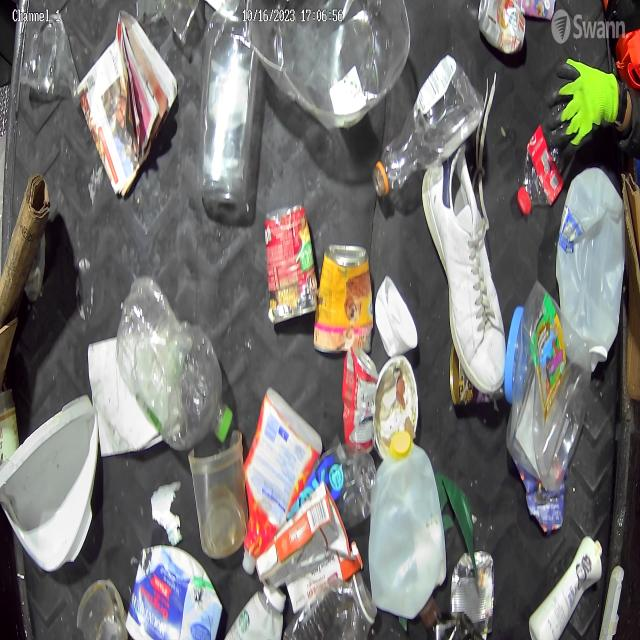can: (316, 242, 374, 357), (261, 204, 317, 320), (342, 344, 378, 459), (454, 547, 492, 628), (476, 0, 528, 59)
milk_jug: (365, 424, 444, 610), (560, 172, 628, 382)
non_white_jug: (240, 396, 322, 580)
plastic_bottle: (114, 274, 230, 434), (372, 57, 484, 196), (199, 2, 259, 222)
